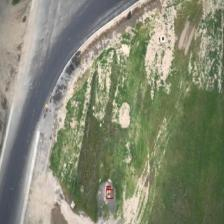fire: (106, 188, 113, 198)
